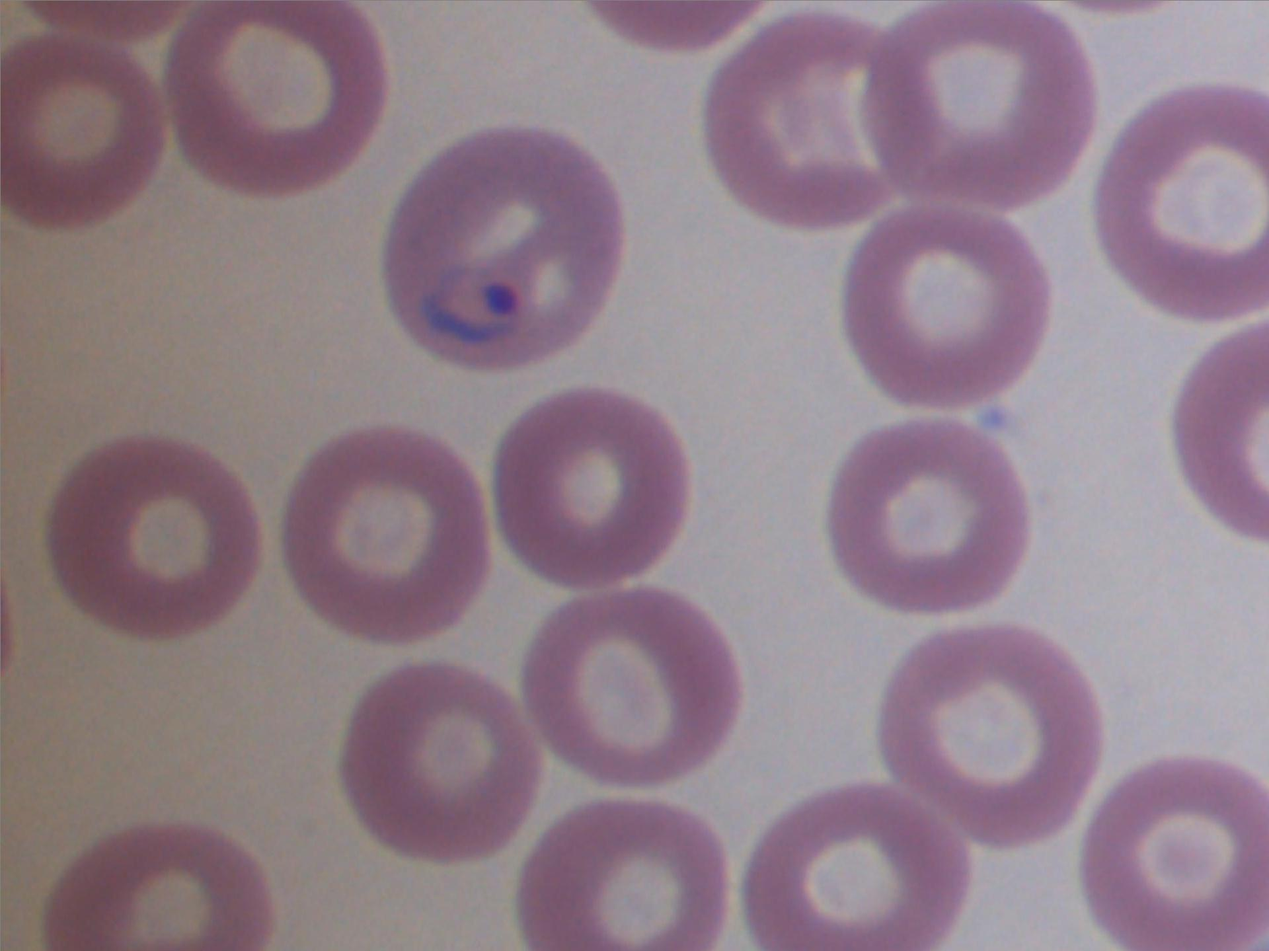Infected: (381, 131, 634, 373)
Uninfected: (881, 626, 1102, 845), (866, 3, 1096, 208), (46, 435, 264, 638), (286, 428, 486, 642), (704, 11, 900, 228), (840, 209, 1054, 405), (826, 415, 1035, 615), (526, 590, 739, 782), (172, 1, 385, 187), (1096, 83, 1269, 310), (344, 665, 540, 859), (494, 389, 690, 582), (746, 786, 968, 948), (1083, 761, 1265, 940), (0, 36, 168, 227), (521, 800, 724, 948), (46, 824, 266, 950)
